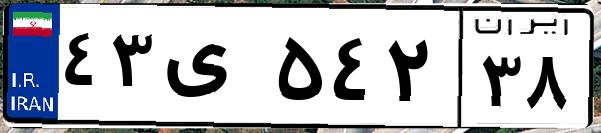2: (385, 28, 445, 110)
3: (475, 38, 525, 113), (110, 28, 158, 98)
4: (330, 28, 385, 110), (57, 26, 110, 100)
5: (270, 28, 330, 110)
8: (525, 38, 570, 115)
ی: (158, 20, 270, 120)
